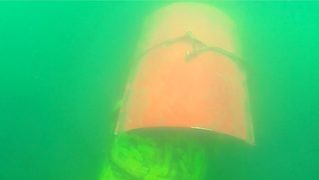leak: (113, 3, 257, 146)
pipe: (97, 128, 224, 179)
